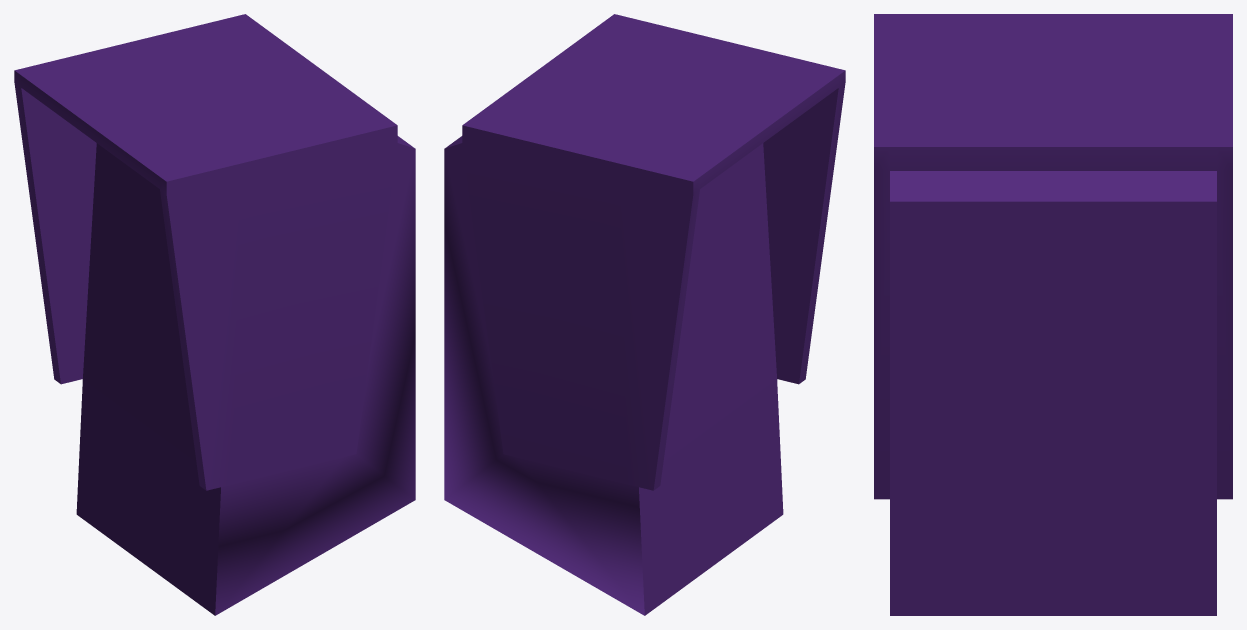
The model's file is Code_Machine_01.fbx.
3 views of the same model, side by side, from view 1: azimuth 30°, elevation 25°; view 2: azimuth 150°, elevation 25°; view 3: azimuth 270°, elevation 25° (orthographic). The views are drawn at different scales.
Visible parts, largest first — view 1: Code_Machine_01; view 2: Code_Machine_01; view 3: Code_Machine_01.
Part boxes in pixels (left/top/right/bottom): Code_Machine_01: left=14, top=14, right=415, bottom=615; Code_Machine_01: left=444, top=14, right=845, bottom=615; Code_Machine_01: left=874, top=14, right=1232, bottom=615.
Bounding box in the file's own units: 23.82 × 40.3 × 24.55.
